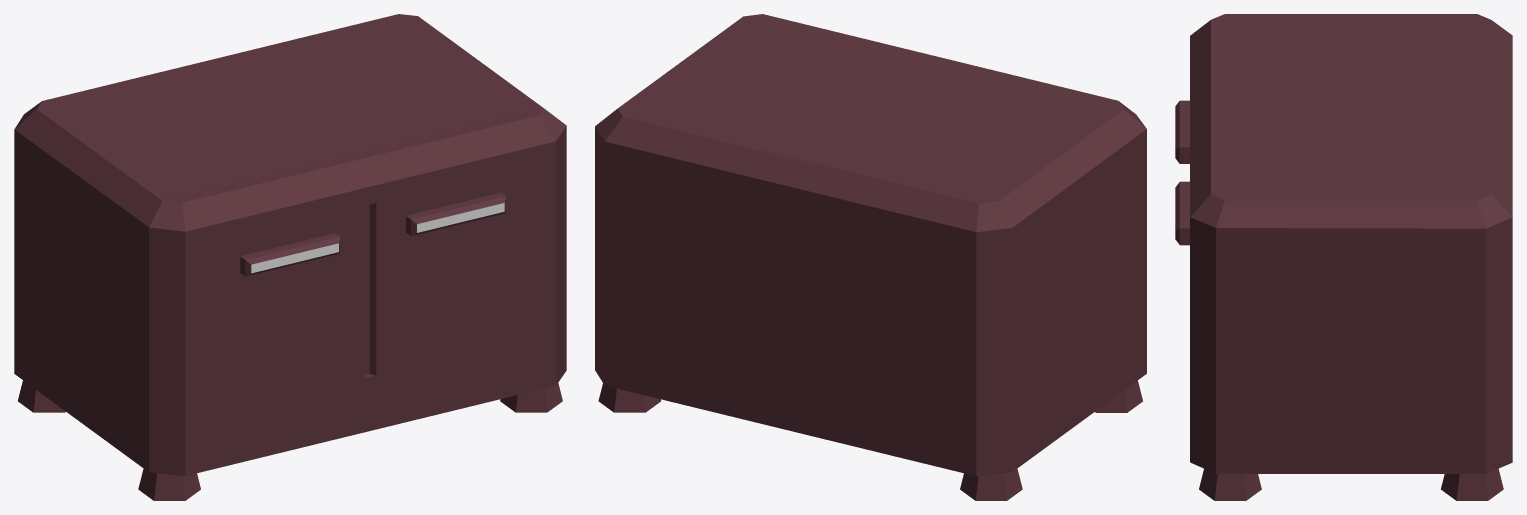
File: scifi-cabinet-large.fbx
3 views of the same model, side by side, from view 1: azimuth 30°, elevation 25°; view 2: azimuth 150°, elevation 25°; view 3: azimuth 270°, elevation 25° (orthographic).
Visible parts, largest first — view 1: scifi-cabinet-large; view 2: scifi-cabinet-large; view 3: scifi-cabinet-large.
Part boxes in pixels (x1,y1,x2,y2): scifi-cabinet-large: (14, 14, 566, 500); scifi-cabinet-large: (595, 14, 1146, 500); scifi-cabinet-large: (1175, 14, 1512, 500).
Size of the model in its own units: 1.5 by 1.01 by 1.05.
